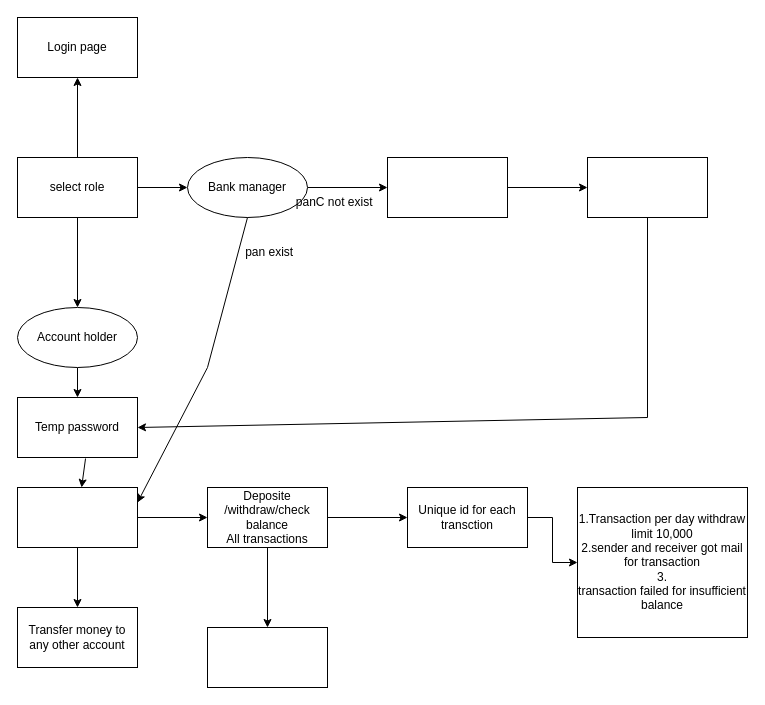
Image size: 765x705. Some labels were removed from this diagram. The centre of each missing label's shape, as x and y in pixels:
Account no generated: pixel 647 187
CSV download for transactions statement: pixel 267 657
Custome id / password: pixel 77 517
Enter all Details name,pan card , adress: pixel 447 187
